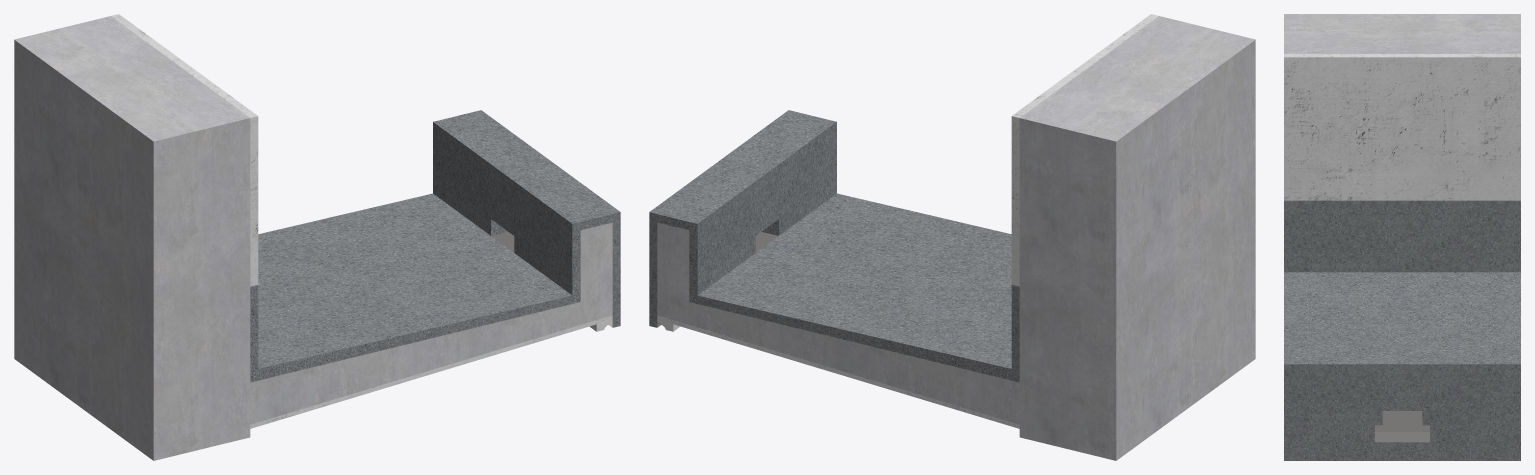
The model's file is cantilever-canopy-raised-eaves-01-v2.glb.
3 views of the same model, side by side, from view 1: azimuth 30°, elevation 25°; view 2: azimuth 150°, elevation 25°; view 3: azimuth 270°, elevation 25° (orthographic). The views are drawn at different scales.
Parts seen in each view (by area): view 1: 防水砂浆-加高外檐包覆, 墙体, 过梁-悬挑板-加高外檐, 墙面抹灰, 板底抹灰与折形滴水, 出水口砂浆衬口; view 2: 防水砂浆-加高外檐包覆, 墙体, 过梁-悬挑板-加高外檐, 墙面抹灰, 板底抹灰与折形滴水, 出水口砂浆衬口; view 3: 防水砂浆-加高外檐包覆, 墙面抹灰, 墙体, 出水水舌, 出水口砂浆衬口.
Part boxes in pixels (x1,y1,x2,y2): 防水砂浆-加高外檐包覆: (250, 110, 620, 382); 墙体: (14, 16, 250, 309); 过梁-悬挑板-加高外檐: (14, 208, 612, 460); 墙面抹灰: (111, 14, 258, 286); 板底抹灰与折形滴水: (250, 315, 612, 428); 出水口砂浆衬口: (486, 207, 518, 255); 防水砂浆-加高外檐包覆: (649, 110, 1019, 382); 墙体: (1019, 16, 1255, 309); 过梁-悬挑板-加高外檐: (657, 208, 1255, 460); 墙面抹灰: (1011, 14, 1158, 286); 板底抹灰与折形滴水: (657, 315, 1019, 428); 出水口砂浆衬口: (751, 207, 783, 255); 防水砂浆-加高外檐包覆: (1284, 200, 1520, 460); 墙面抹灰: (1284, 54, 1520, 200); 墙体: (1284, 14, 1520, 53); 出水水舌: (1375, 411, 1429, 442); 出水口砂浆衬口: (1375, 403, 1429, 425).
Bounding box in the file's own units: 1.22 × 0.7578 × 0.6.
Materials: 7 (6 with a texture image).
